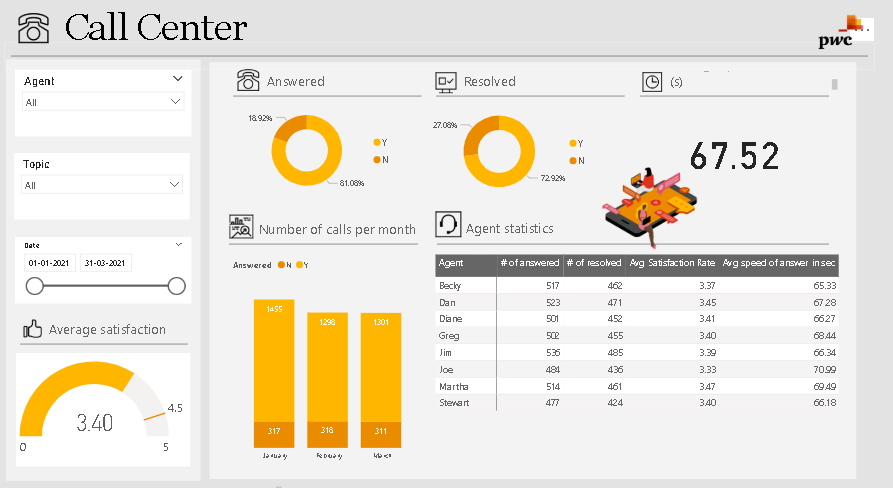

This screenshot's page, from the dashboard's own definition file:
{"tool":"powerbi","page":{"name":"Call Center Manager","canvas":[1280,720],"ordinal":0},"visuals":[{"type":"textbox","box":[89.7,4.8,1172,75.2],"z":0},{"type":"basicShape","box":[9,61,1244.3,40.1],"z":1000},{"type":"basicShape","box":[8.7,80.1,283.6,614.4],"z":2000},{"type":"basicShape","box":[292.6,83.8,942.7,607.6],"z":3000},{"type":"image","box":[1129,0,151,94.5],"z":4000},{"type":"image","box":[24.1,7.7,53.1,68.5],"z":5000},{"type":"columnChart","fields":{"Category":["Call Center.Date.Variation.Date Hierarchy.Month"],"Y":["Call Center.Call Id"],"Series":["Call Center.Answered (Y/N)"]},"box":[329.5,359.7,284.8,308.3],"z":6000},{"type":"slicer","fields":{"Values":["Call Center.Date"]},"box":[24.6,339.5,252.4,94.9],"z":7000},{"type":"pivotTable","fields":{"Rows":["Call Center.Agent"],"Values":["Call Center.# of answered","Call Center.# of resolved","Call Center.Satisfaction rating","Call Center.Speed of answer in seconds"]},"box":[619.9,359.7,607.6,279.2],"z":8000},{"type":"slicer","fields":{"Values":["Call Center.Agent"]},"box":[24.6,101.6,252.4,95],"z":9000},{"type":"slicer","fields":{"Values":["Call Center.Topic"]},"box":[23.5,220.6,251.3,94.9],"z":10000},{"type":"donutChart","fields":{"Category":["Call Center.Resolved"],"Y":["Call Center.Resolved"]},"box":[611,143,242.4,149.7],"z":11000},{"type":"gauge","fields":{"Y":["Call Center.Satisfaction rating"],"MaxValue":["Call Center.Satisfaction rating"],"TargetValue":["Call Center.Target Value Satisfaction"]},"box":[25.7,506,249.1,162],"z":12000},{"type":"image","box":[31.1,452.4,35.7,35.7],"z":13000},{"type":"textbox","box":[66.8,452.4,188.1,35.7],"z":14000},{"type":"basicShape","box":[21.2,472.5,259.1,40.2],"z":15000},{"type":"donutChart","fields":{"Category":["Call Center.Answered (Y/N)"],"Y":["Call Center.Answered (Y/N)"]},"box":[341.8,141.8,232.3,149.7],"z":16000},{"type":"textbox","box":[378.6,98.3,172,35.7],"z":17000},{"type":"textbox","box":[660.1,98.3,183.2,35.7],"z":18000},{"type":"card","fields":{"Values":["Call Center.Speed of answer in seconds"]},"box":[953.9,148.6,196.6,136.3],"z":19000},{"type":"basicShape","box":[906.9,118.4,289.3,40.2],"z":20000},{"type":"textbox","box":[953.9,98.3,250.2,35.7],"z":21000},{"type":"basicShape","box":[325,118.4,289,40.2],"z":22000},{"type":"basicShape","box":[616,118.4,289,40.2],"z":23000},{"type":"image","box":[915.9,88.2,38,59.2],"z":24000},{"type":"image","box":[337.3,94.9,41.3,43.6],"z":25000},{"type":"image","box":[619.9,88.2,40.2,61.4],"z":26000},{"type":"textbox","box":[367.4,310.5,250.2,35.7],"z":27000},{"type":"basicShape","box":[320.5,330.6,289.3,40.2],"z":28000},{"type":"textbox","box":[663.4,309.3,250.2,35.7],"z":29000},{"type":"basicShape","box":[616.5,329.5,579.7,40.2],"z":30000},{"type":"image","box":[619.9,294.9,46.9,55.8],"z":31000},{"type":"image","box":[325,290.4,43.6,69.2],"z":32000},{"type":"image","box":[800.6,197.7,278.8,187.1],"z":33000},{"type":"textbox","box":[7.7,691.6,403.2,28],"z":34000}]}

Visuals, with their boxes in screenshot pixels (x1, y1, x2, y2), scaled from the page's 1280x720 canvas onto the 893x488 screenshot:
textbox: <bbox>63, 3, 880, 54</bbox>
basicShape: <bbox>6, 41, 874, 69</bbox>
basicShape: <bbox>6, 54, 204, 471</bbox>
basicShape: <bbox>204, 57, 862, 469</bbox>
image: <bbox>788, 0, 892, 64</bbox>
image: <bbox>17, 5, 54, 52</bbox>
columnChart - Call Center.Date.Variation.Date Hierarchy.Month x Call Center.Call Id: <bbox>230, 244, 429, 453</bbox>
slicer - Call Center.Date: <bbox>17, 230, 193, 294</bbox>
pivotTable - Call Center.Agent x Call Center.# of answered: <bbox>432, 244, 856, 433</bbox>
slicer - Call Center.Agent: <bbox>17, 69, 193, 133</bbox>
slicer - Call Center.Topic: <bbox>16, 150, 192, 214</bbox>
donutChart - Call Center.Resolved x Call Center.Resolved: <bbox>426, 97, 595, 198</bbox>
gauge - Call Center.Satisfaction rating x Call Center.Satisfaction rating: <bbox>18, 343, 192, 453</bbox>
image: <bbox>22, 307, 47, 331</bbox>
textbox: <bbox>47, 307, 178, 331</bbox>
basicShape: <bbox>15, 320, 196, 347</bbox>
donutChart - Call Center.Answered (Y/N) x Call Center.Answered (Y/N): <bbox>238, 96, 401, 198</bbox>
textbox: <bbox>264, 67, 384, 91</bbox>
textbox: <bbox>461, 67, 588, 91</bbox>
card - Call Center.Speed of answer in seconds: <bbox>665, 101, 803, 193</bbox>
basicShape: <bbox>633, 80, 835, 107</bbox>
textbox: <bbox>665, 67, 840, 91</bbox>
basicShape: <bbox>227, 80, 428, 107</bbox>
basicShape: <bbox>430, 80, 631, 107</bbox>
image: <bbox>639, 60, 665, 100</bbox>
image: <bbox>235, 64, 264, 94</bbox>
image: <bbox>432, 60, 461, 101</bbox>
textbox: <bbox>256, 210, 431, 235</bbox>
basicShape: <bbox>224, 224, 425, 251</bbox>
textbox: <bbox>463, 210, 637, 234</bbox>
basicShape: <bbox>430, 223, 835, 251</bbox>
image: <bbox>432, 200, 465, 238</bbox>
image: <bbox>227, 197, 257, 244</bbox>
image: <bbox>559, 134, 753, 261</bbox>
textbox: <bbox>5, 469, 287, 487</bbox>
